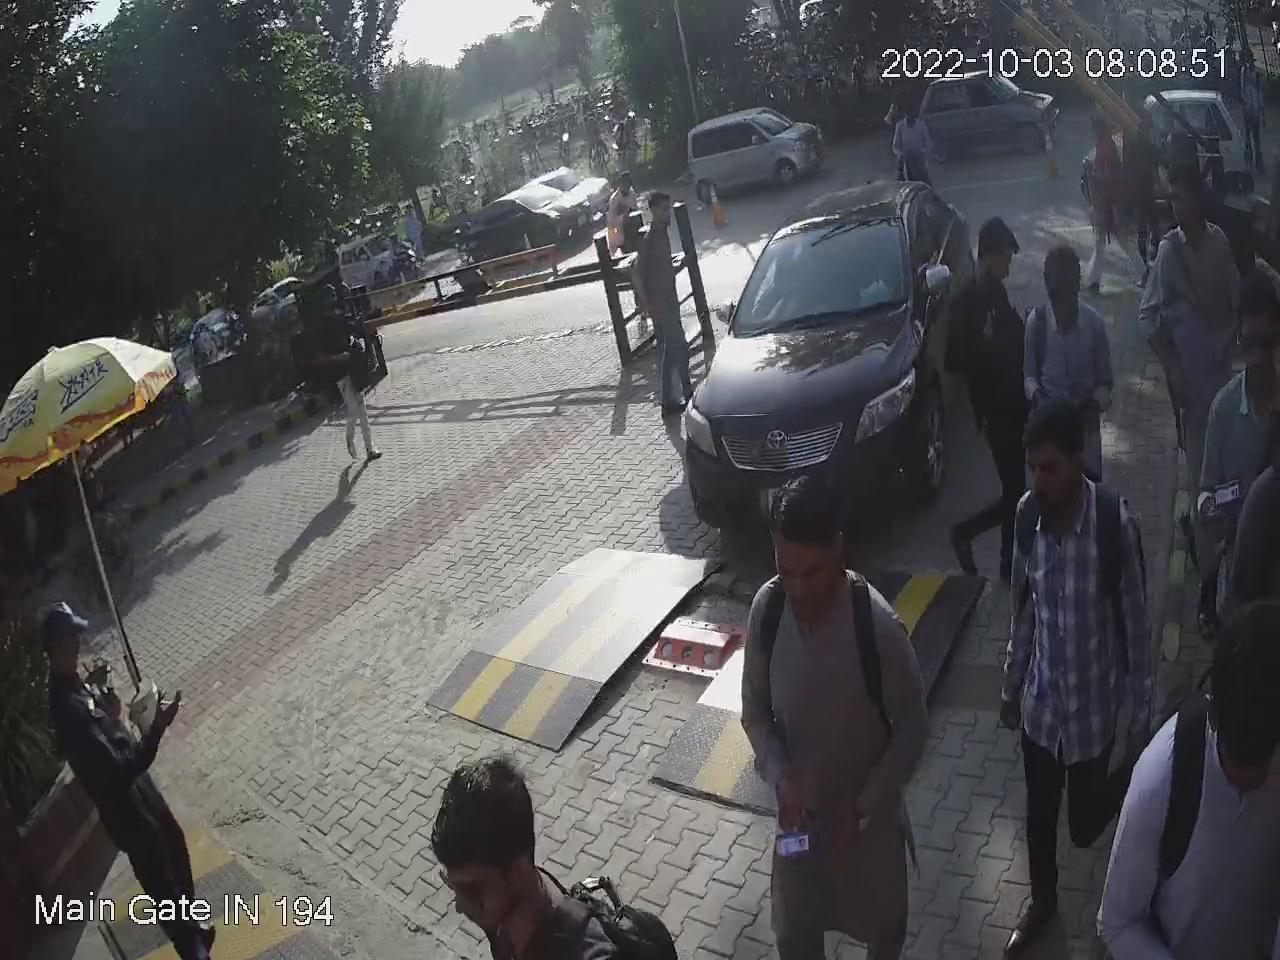windshield: (736, 205, 910, 328)
